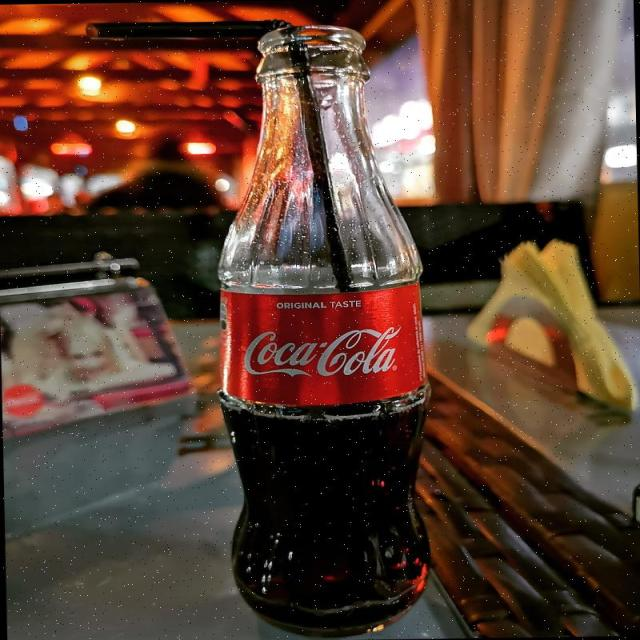coca-cola: (209, 18, 444, 639)
